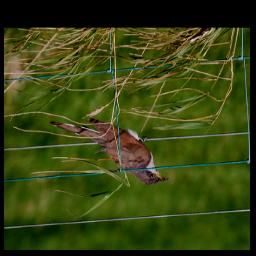Cuckoo: (47, 111, 170, 188)
